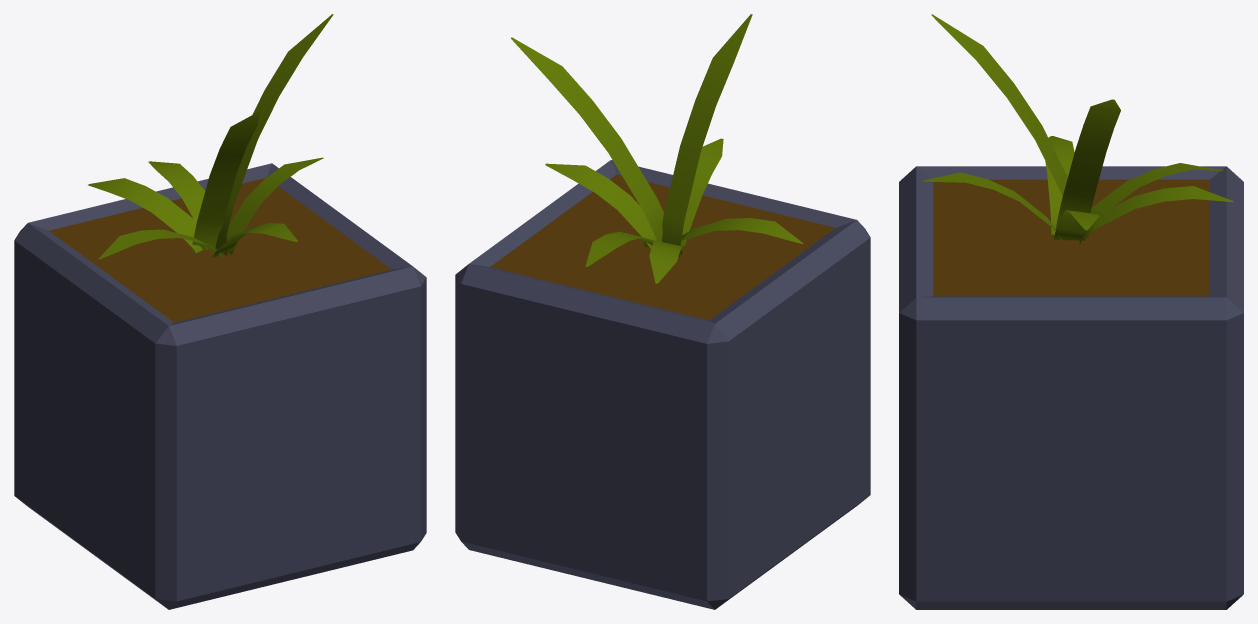
Rendered from Garden_Box.fbx.
The picture shows the model from 3 angles, left to right: view 1: azimuth 30°, elevation 25°; view 2: azimuth 150°, elevation 25°; view 3: azimuth 270°, elevation 25°; orthographic projection. The views are drawn at different scales.
Parts seen in each view (by area): view 1: pPlane9; view 2: pPlane9; view 3: pPlane9.
Part boxes in pixels (box(x1,y1,x2,y2)): pPlane9: box(14, 14, 426, 609); pPlane9: box(455, 14, 870, 609); pPlane9: box(899, 14, 1243, 609).
Bounding box in the file's own units: 7.33 × 12.11 × 7.33.
